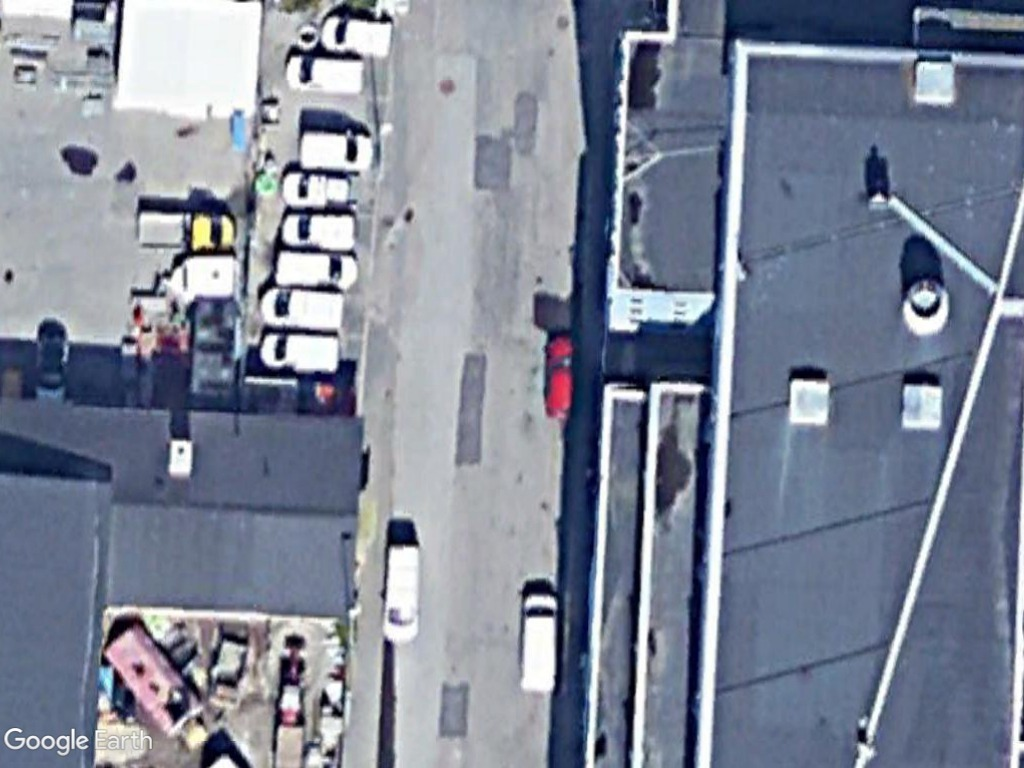car: (537, 326, 583, 426)
van: (512, 583, 560, 704), (375, 534, 425, 650), (252, 283, 351, 336), (253, 326, 351, 375), (271, 242, 364, 293), (315, 12, 401, 64), (279, 50, 372, 98), (294, 127, 384, 176), (273, 207, 364, 253)
